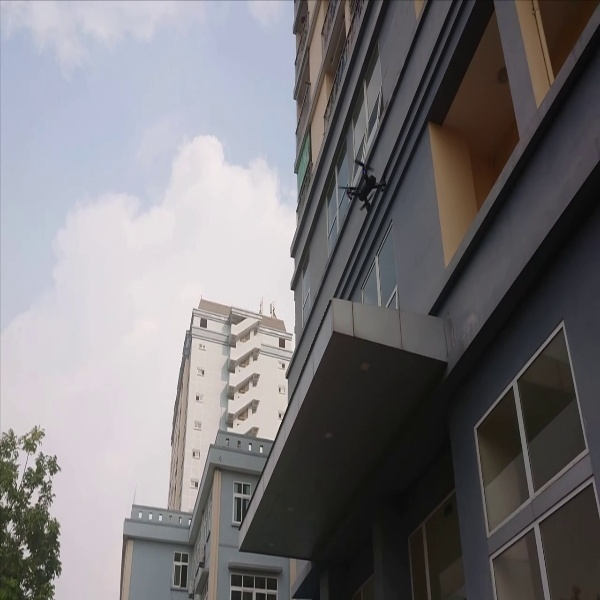drone: (336, 151, 389, 218)
